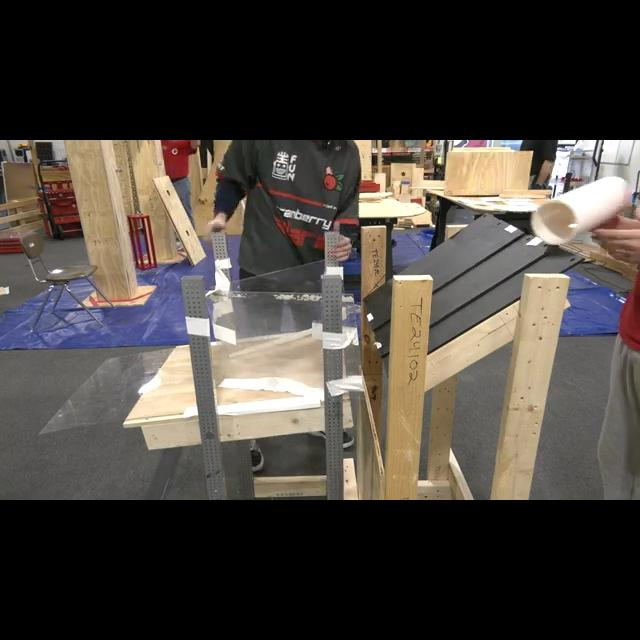CORAL: (528, 174, 632, 246)
